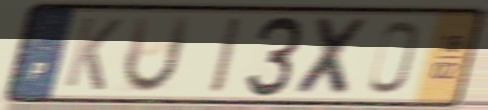0: (367, 18, 423, 95)
3: (241, 12, 306, 100)
I: (208, 14, 246, 97)
K: (60, 14, 126, 93)
U: (120, 13, 195, 97)
X: (290, 14, 374, 99)
